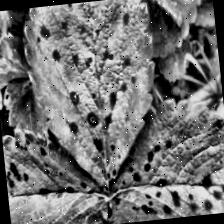Leaf Spot: (18, 0, 170, 202), (87, 92, 224, 224), (1, 121, 111, 224), (143, 0, 201, 31)
